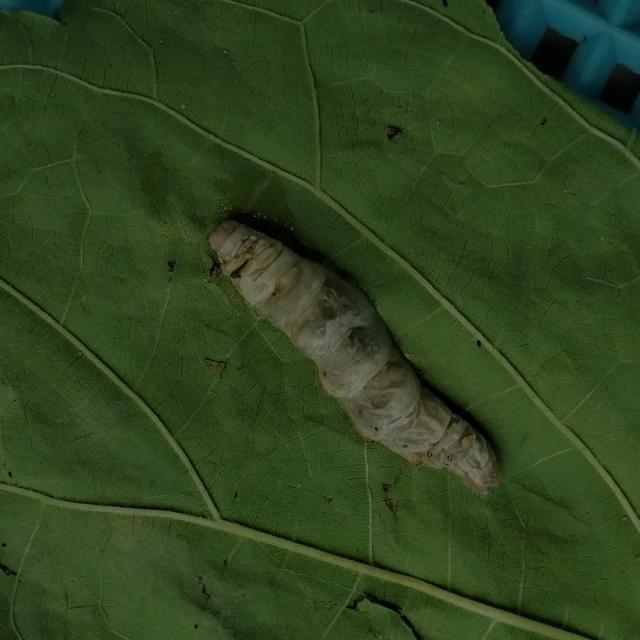Grasserie: (204, 212, 508, 510)
